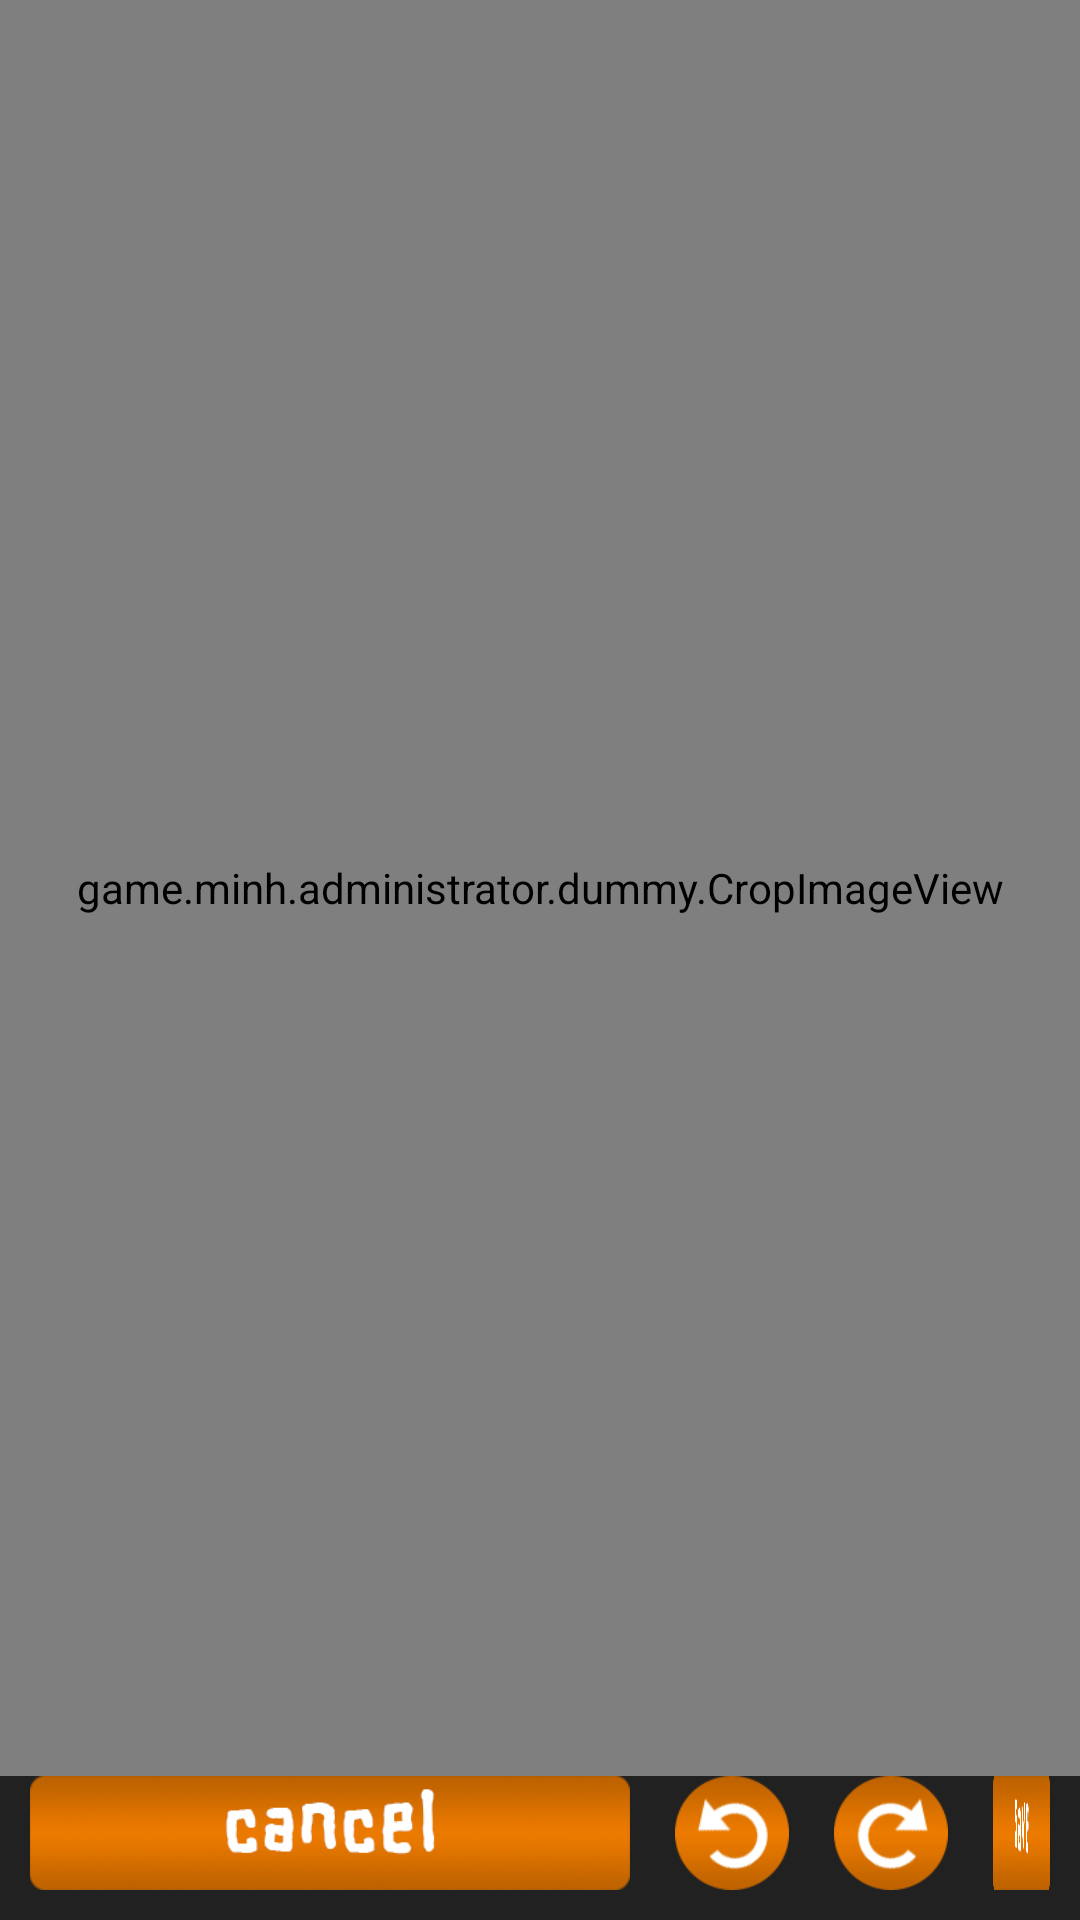

Locate icon controls on the screen. Image size 1080 × 1920, boxes as (x1, y1, x2, y2).
rotate left: (675, 1776, 789, 1890)
rotate right: (834, 1776, 948, 1890)
